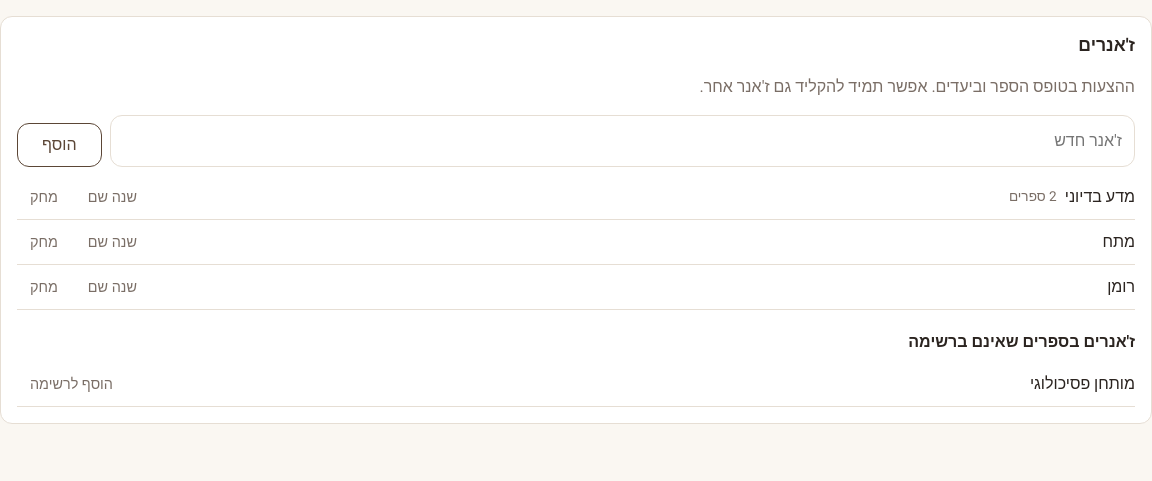
Test: GenreManager — add › refuses an empty name or one already in the list
Click the button "הוסף": {"x": 59, "y": 145} [17, 123, 102, 167]
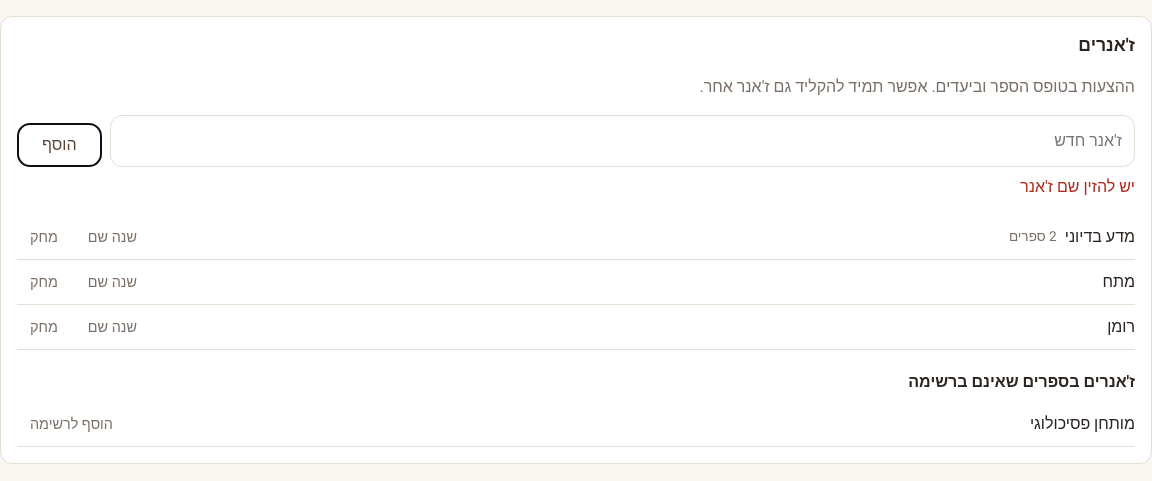
Expected: the text "יש להזין שם ז'אנר" is shown, [1020, 175, 1135, 199]
In the field labelled "ז'אנר חדש": {"x": 622, "y": 141} [110, 115, 1135, 167], type "מתח"
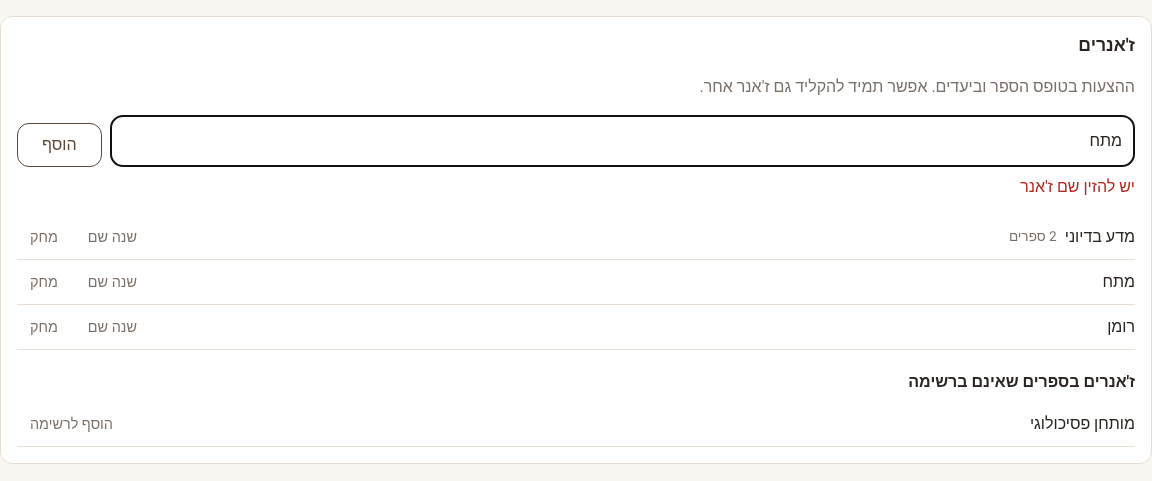
Click the button "הוסף": {"x": 59, "y": 145} [17, 123, 102, 167]
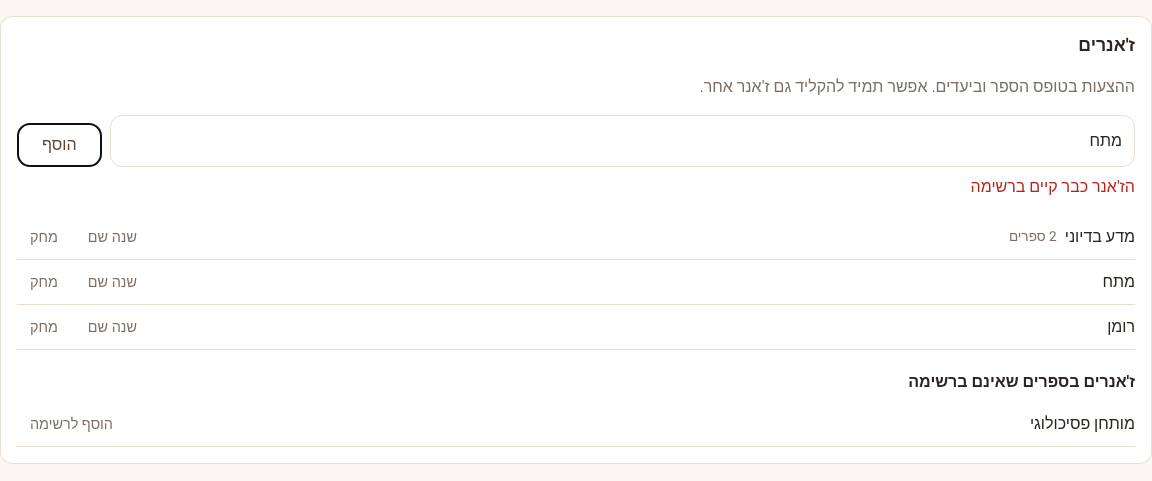
Expected: the text "הז'אנר כבר קיים ברשימה" is shown, [971, 175, 1135, 199]
